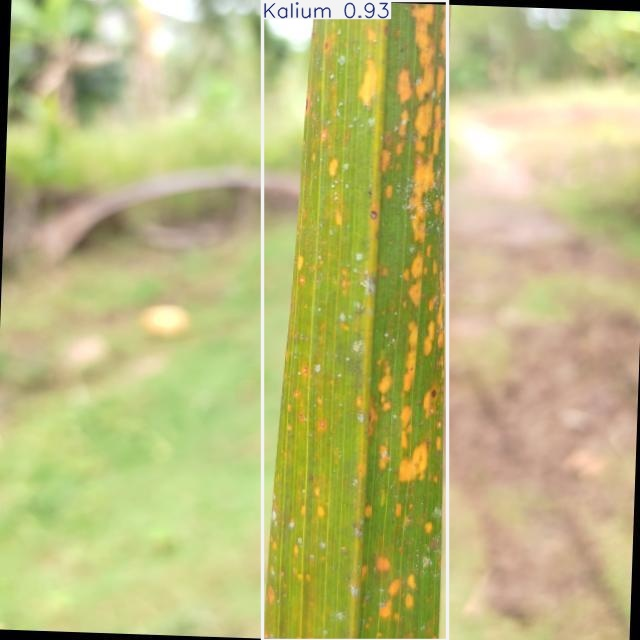Kalium: (263, 1, 447, 640)
